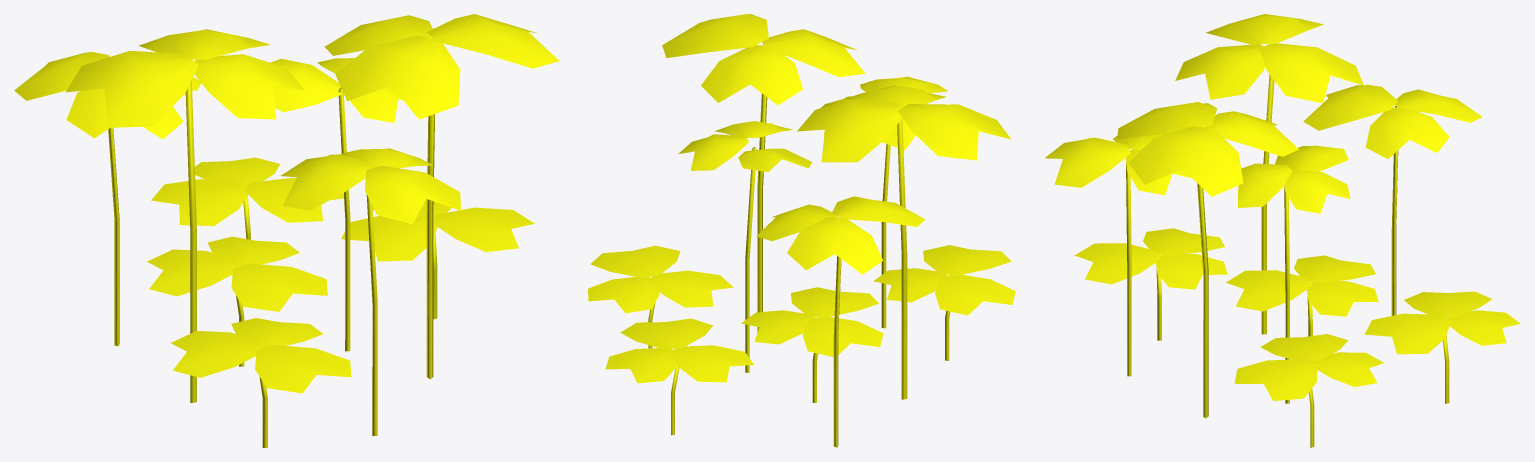
File: Clover_3.fbx
3 renders of one model, left to right at view 1: azimuth 30°, elevation 25°; view 2: azimuth 150°, elevation 25°; view 3: azimuth 270°, elevation 25°, orthographic. The views are drawn at different scales.
Parts seen in each view (by area): view 1: Clover_3; view 2: Clover_3; view 3: Clover_3.
Boxes of the visible parts, bbox=[...] form: Clover_3: bbox=[14, 14, 559, 447]; Clover_3: bbox=[588, 14, 1015, 447]; Clover_3: bbox=[1045, 14, 1520, 447].
Bounding box in the file's own units: 428 × 318 × 460.
